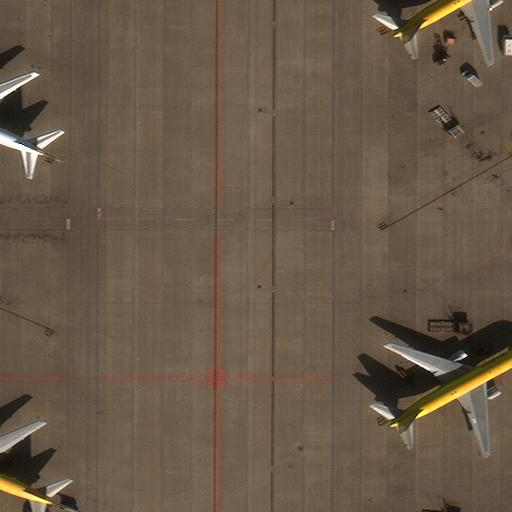Large Civil Transport: (389, 343, 511, 452), (392, 0, 511, 63), (0, 420, 52, 512), (0, 72, 45, 172)
